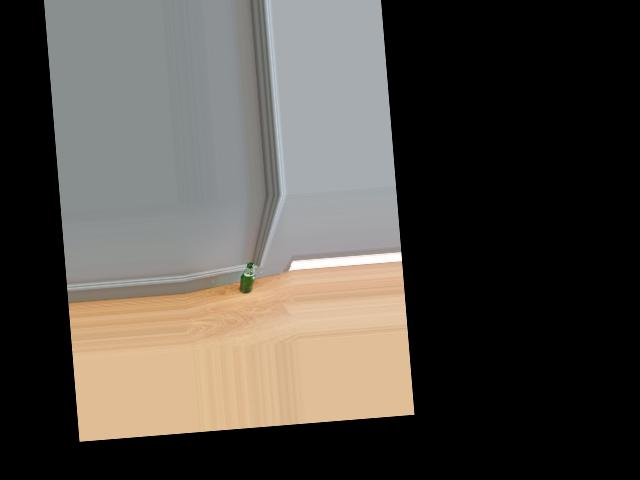beer: (238, 262, 256, 293)
